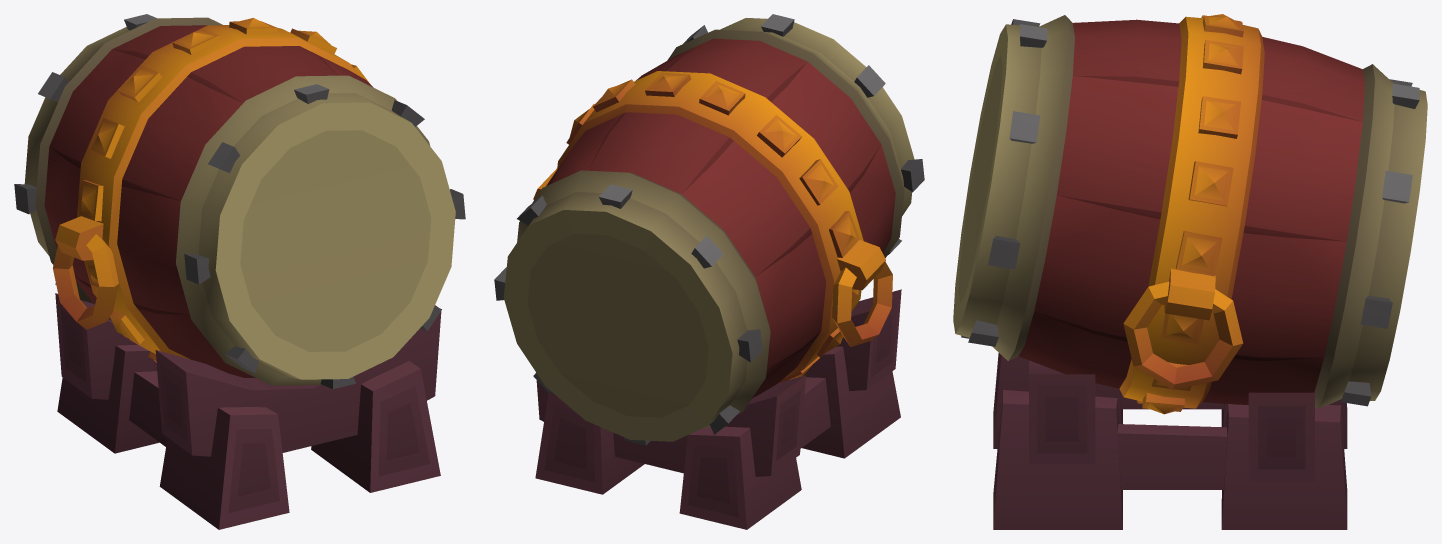
File: drum.glb
The picture shows the model from 3 angles, left to right: view 1: azimuth 30°, elevation 25°; view 2: azimuth 150°, elevation 25°; view 3: azimuth 270°, elevation 25°; orthographic projection. The views are drawn at different scales.
Parts seen in each view (by area): view 1: drum; view 2: drum; view 3: drum.
Part boxes in pixels (x1,y1,x2,y2): drum: (14, 14, 465, 529); drum: (494, 14, 924, 529); drum: (953, 14, 1427, 529).
Bounding box in the file's own units: 2.28 × 2.51 × 2.45.
1 material, 1 textured.
